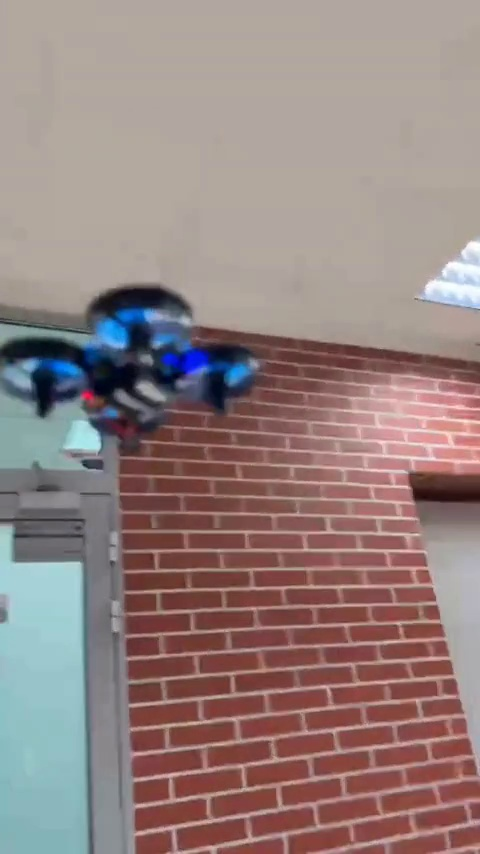drone: (0, 285, 268, 451)
